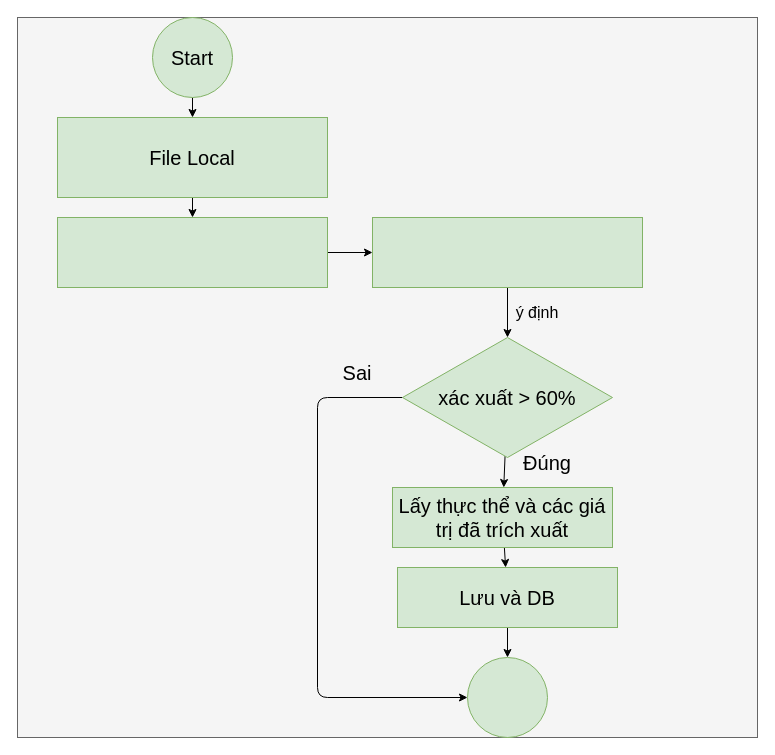
Some shapes in this 775 by 755 pixel diagram are drawn without their labels. The shapes that lost their labels are listed below. From the top down, each one's centre as x and y in pixels, then its label:
(192,252): Đọc và tách từng câu
(507,252): Rasa Server ( Model DIET )
(507,697): End
